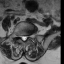CCS_stenosis: (23, 33, 25, 43)
LFS_severe_stenosis: (27, 32, 30, 39)
LLS_normal: (25, 33, 27, 41)
RFS_stenosis: (18, 32, 20, 39)
RLS_normal: (20, 33, 23, 41)
